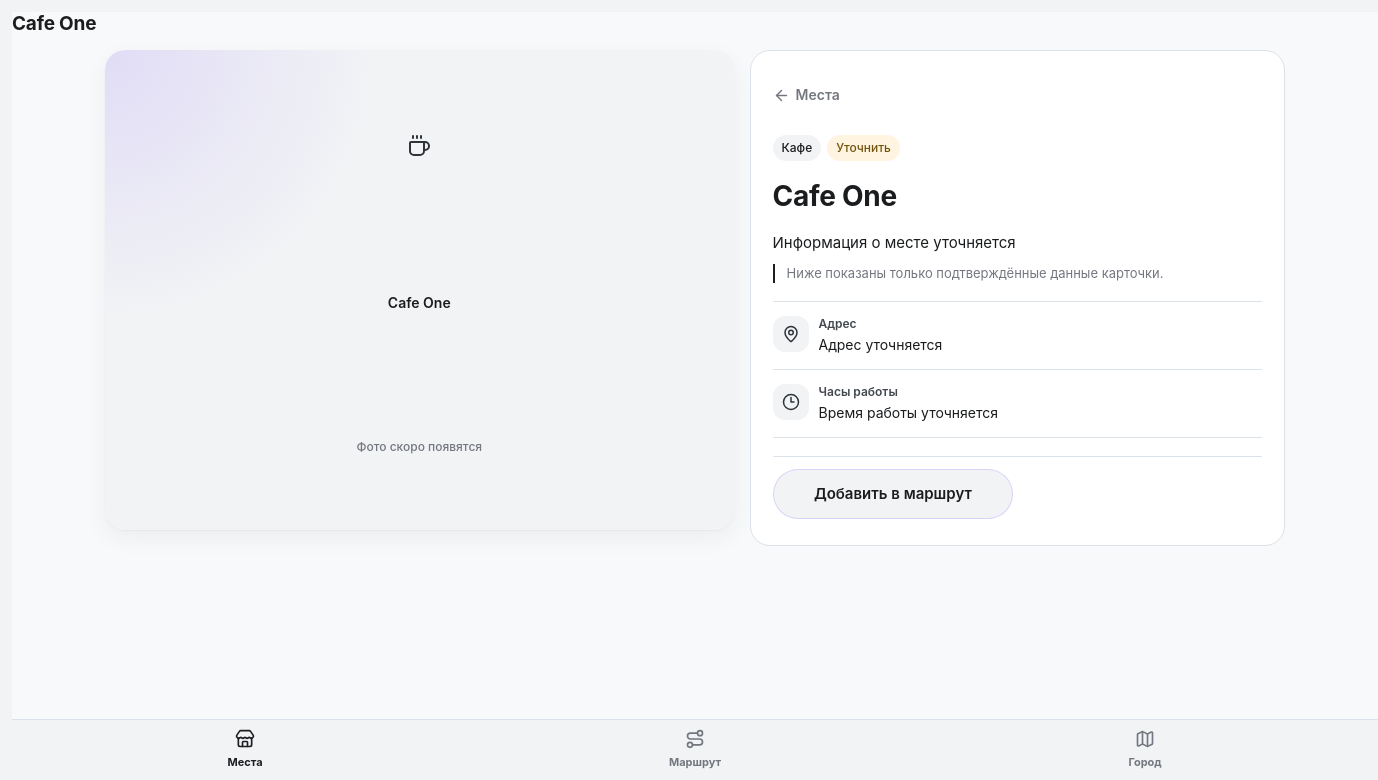
Scenario: TmaPlaceDetailPage › defect #3 regression: a rejected concurrent add is swallowed silently, not shown as a failure_new
Click the button "Добавить в маршрут". click: (893, 494)
box: [772,469,1013,519]
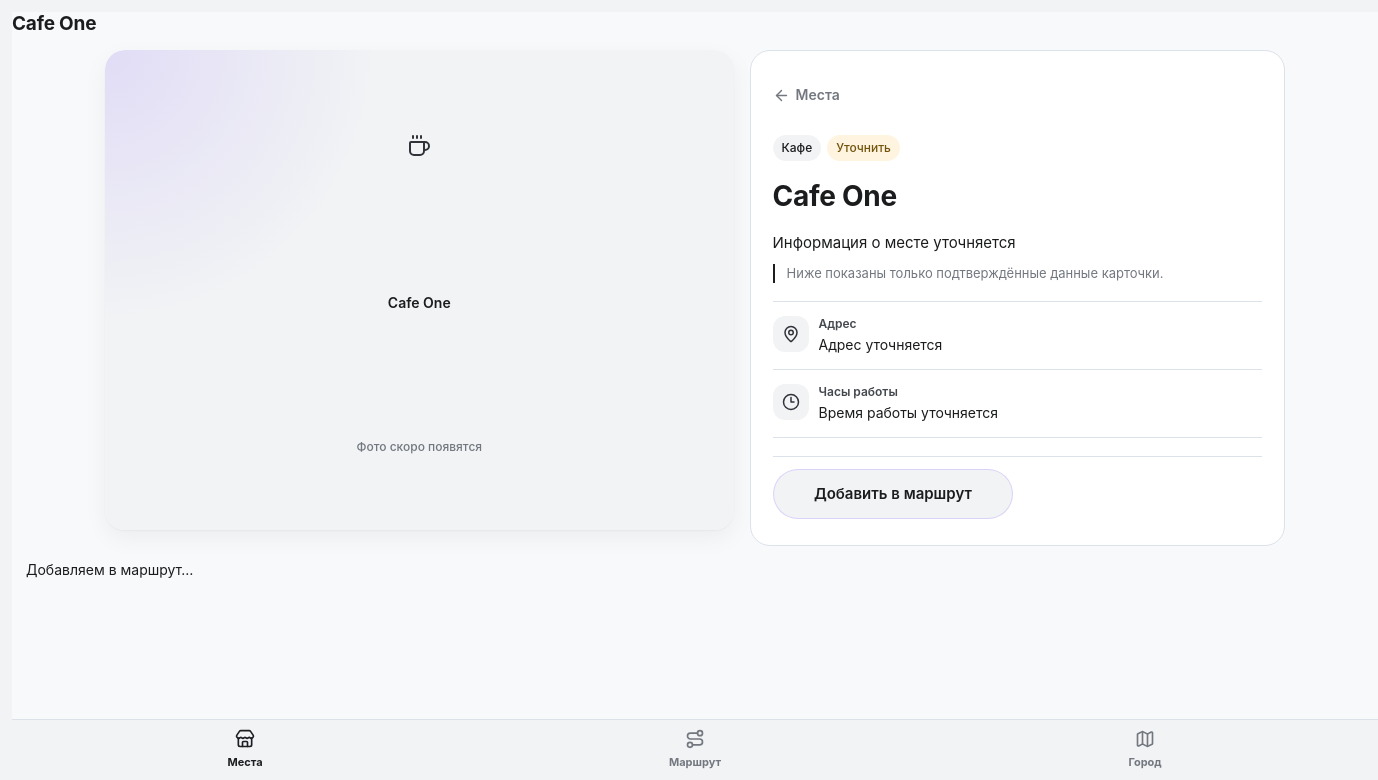
Now the message reads "Добавляем в маршрут…", box [26,561,193,578]
